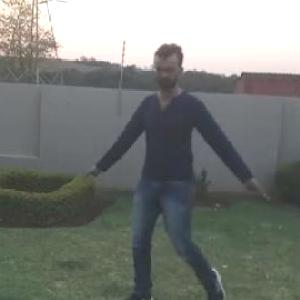land: (103, 57, 248, 296)
